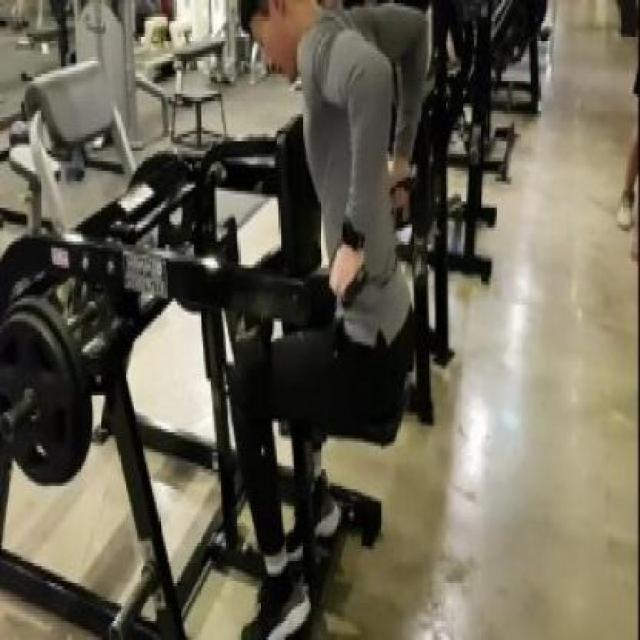seated dip machine: (0, 111, 382, 640)
